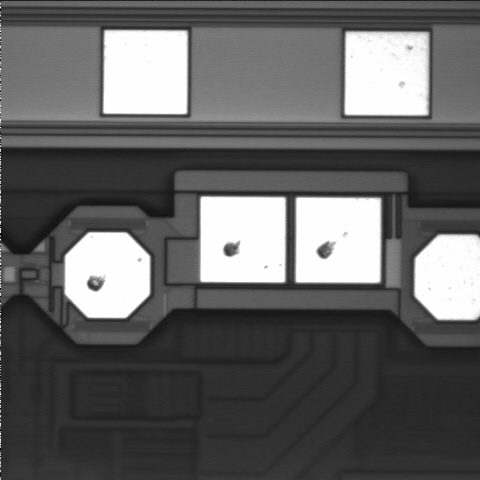pad: (65, 232, 150, 318), (200, 197, 285, 282), (296, 198, 381, 283), (103, 31, 187, 114), (345, 32, 428, 115)
